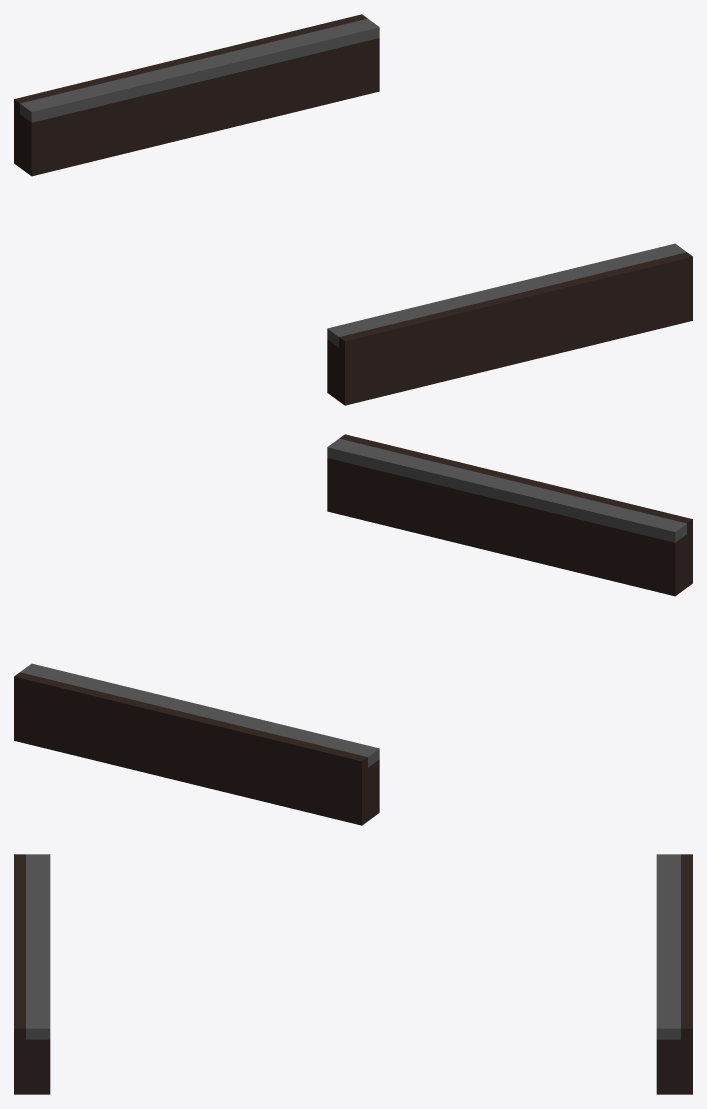
Rendered from trammid.obj.
The picture shows the model from 3 angles, top to bottom: view 1: azimuth 30°, elevation 25°; view 2: azimuth 150°, elevation 25°; view 3: azimuth 270°, elevation 25°; orthographic projection. The views are drawn at different scales.
Visible parts, largest first — view 1: RAIL_RIGHT, RAIL_LEFT; view 2: RAIL_RIGHT, RAIL_LEFT; view 3: RAIL_RIGHT, RAIL_LEFT.
Boxes of the visible parts, box(x1,y1,x2,y2) form: RAIL_RIGHT: box(14, 14, 379, 176); RAIL_LEFT: box(327, 243, 692, 405); RAIL_RIGHT: box(14, 663, 379, 825); RAIL_LEFT: box(327, 434, 692, 596); RAIL_RIGHT: box(656, 854, 692, 1094); RAIL_LEFT: box(14, 854, 50, 1094).
Size of the model in its own units: 1.06 by 0.1875 by 1.75.
Materials: 1 (1 with a texture image).
